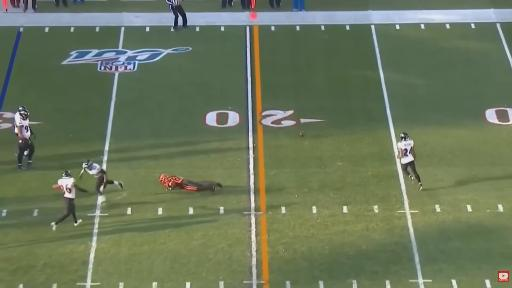Helmet: (19, 110, 29, 120), (159, 174, 167, 183), (83, 160, 92, 168), (400, 133, 409, 140), (63, 171, 71, 177), (18, 106, 27, 111)
Jersey: (14, 112, 30, 138), (398, 140, 414, 163), (58, 178, 75, 198), (85, 163, 104, 177), (163, 176, 183, 188)
Player: (51, 171, 87, 230), (79, 160, 123, 202), (398, 133, 422, 189), (14, 106, 34, 169), (159, 174, 222, 192)
